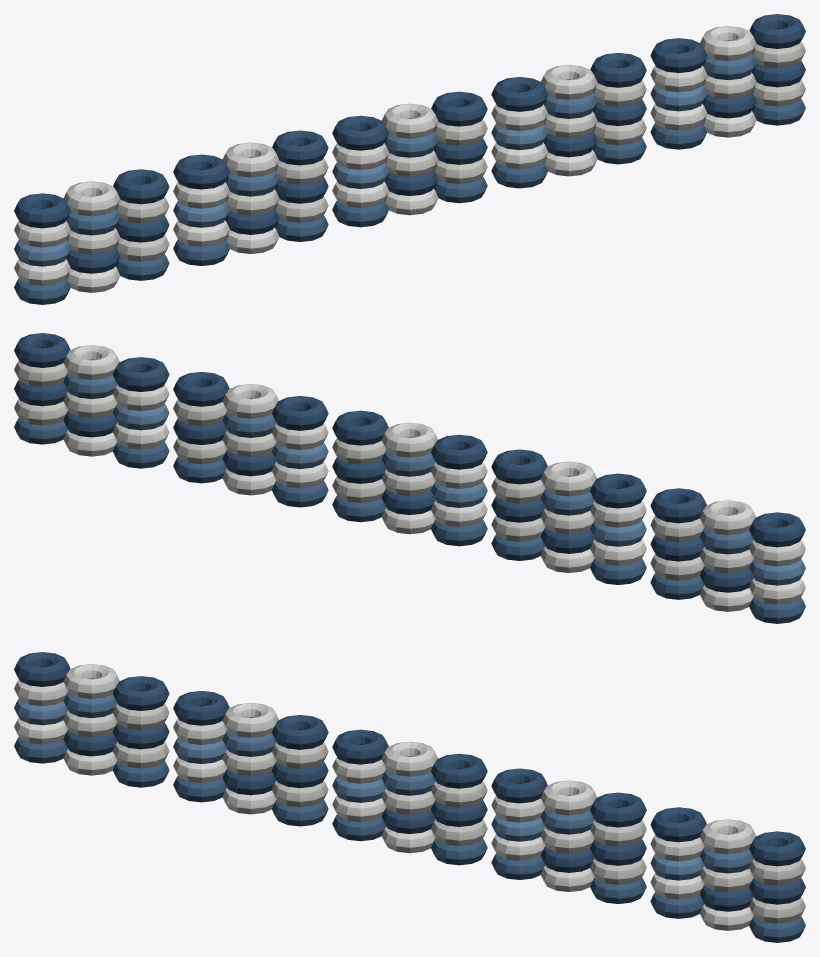
The model's file is barrier_tire_navy_white_01_strip5.glb.
3 renders of one model, top to bottom at view 1: azimuth 30°, elevation 25°; view 2: azimuth 150°, elevation 25°; view 3: azimuth 330°, elevation 25°, orthographic.
Visible parts, largest first — view 1: barrier_tire_navy_white_01_strip5; view 2: barrier_tire_navy_white_01_strip5; view 3: barrier_tire_navy_white_01_strip5.
Boxes of the visible parts, x1,y1,x2,y2 form: barrier_tire_navy_white_01_strip5: (14,14,805,304); barrier_tire_navy_white_01_strip5: (14,333,805,623); barrier_tire_navy_white_01_strip5: (14,652,805,942).
Size of the model in its own units: 9.86 by 1.15 by 0.62.
